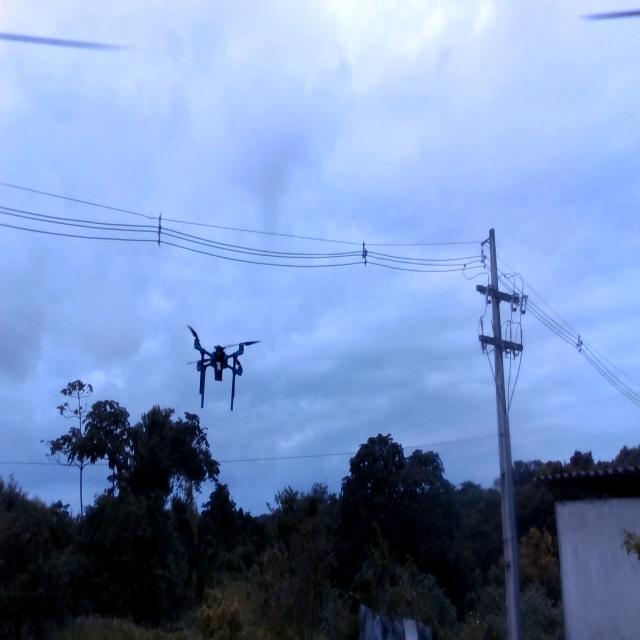-uav-: (179, 312, 265, 414)
